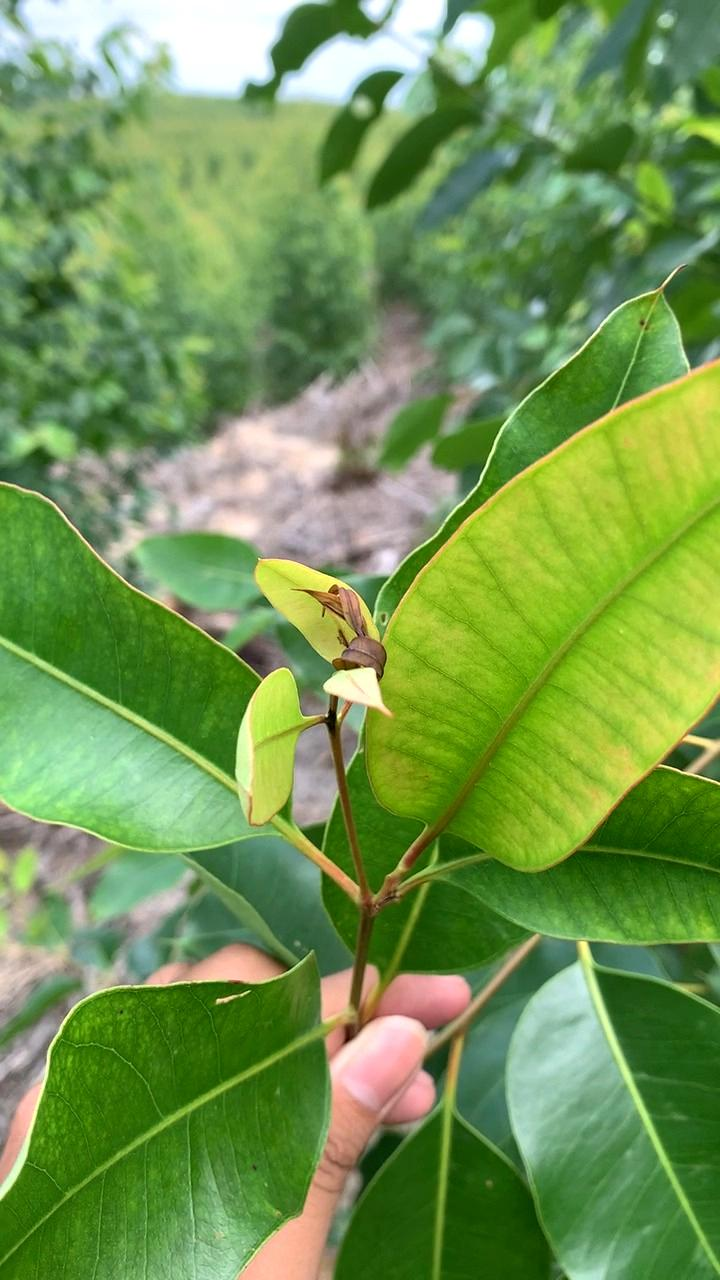Helopeltis-Withered Sprout: (295, 585, 389, 680)
